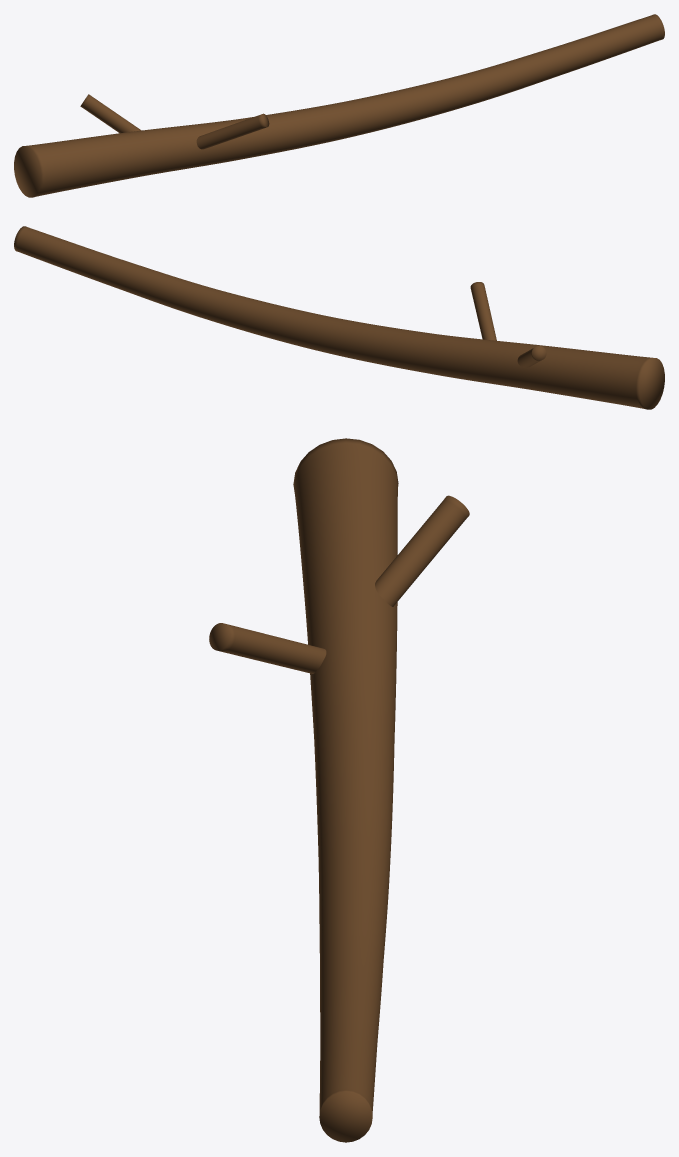
Rendered from stick_b.glb.
3 views of the same model, one above another, from view 1: azimuth 30°, elevation 25°; view 2: azimuth 150°, elevation 25°; view 3: azimuth 270°, elevation 25° (orthographic). The views are drawn at different scales.
Visible parts, largest first — view 1: Shaft, ForkB, ForkA; view 2: Shaft, ForkB, ForkA; view 3: Shaft, ForkA, ForkB.
Boxes of the visible parts, bbox=[...] form: Shaft: bbox=[14, 14, 664, 197]; ForkB: bbox=[196, 113, 269, 149]; ForkA: bbox=[80, 94, 141, 133]; Shaft: bbox=[14, 226, 664, 409]; ForkB: bbox=[470, 282, 496, 340]; ForkA: bbox=[517, 346, 546, 367]; Shaft: bbox=[293, 438, 398, 1142]; ForkA: bbox=[375, 495, 469, 606]; ForkB: bbox=[209, 623, 326, 673].
Size of the model in its own units: 0.5221 by 0.0633 by 0.093.
